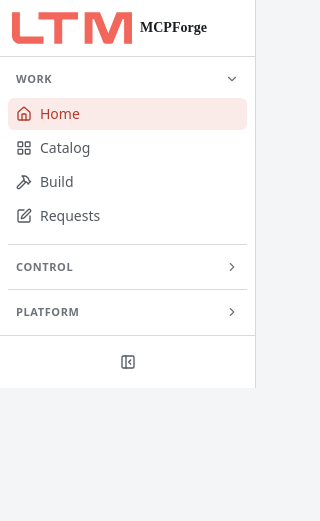
Test case: Sidebar — group expansion (03 §5.2) › collapses to an icon rail (~56px) with tooltips, every icon distinct
Click the button named "Collapse sidebar" at {"x": 128, "y": 362}, box left=110, top=344, right=146, bottom=380
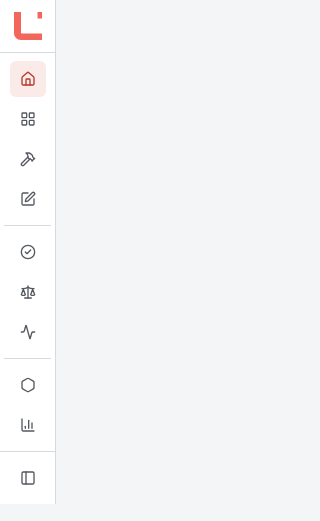
Expected: the number of links is 9
